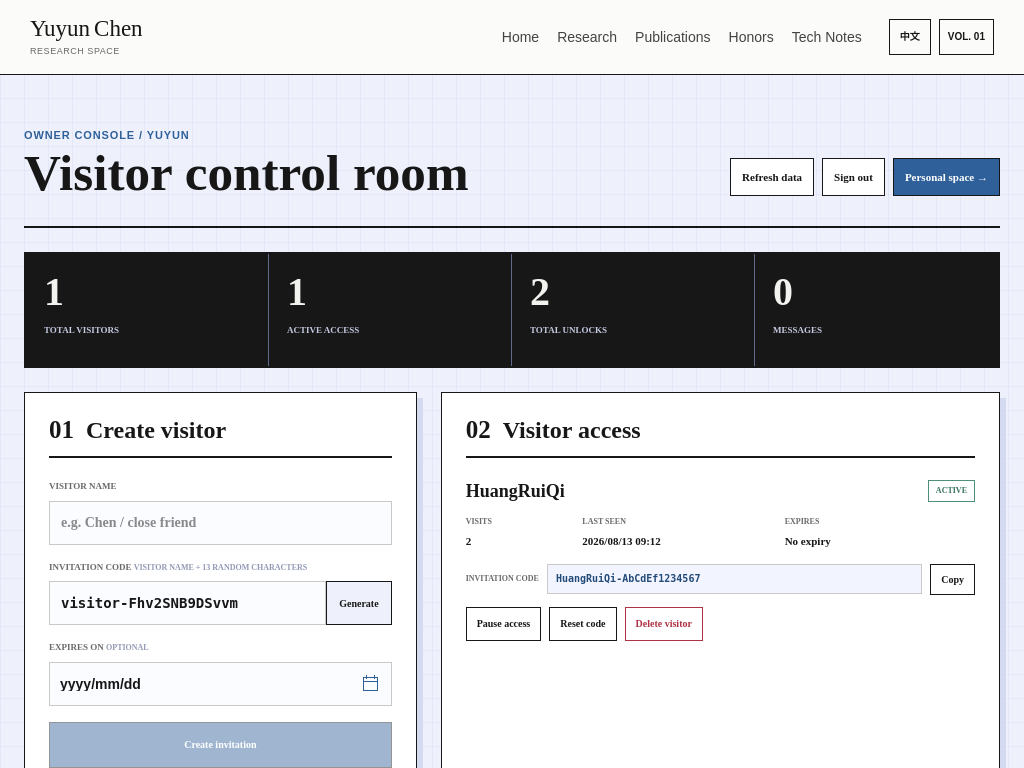
Test: owner session restoration › shows the visible invitation code and lets the owner delete or reset a visitor
Expected: the text "HuangRuiQi-AbCdEf1234567" is shown, [547, 564, 922, 594]
Click the button with aria-label "Open Expires on calendar" at (100, 684), box [49, 662, 392, 706]
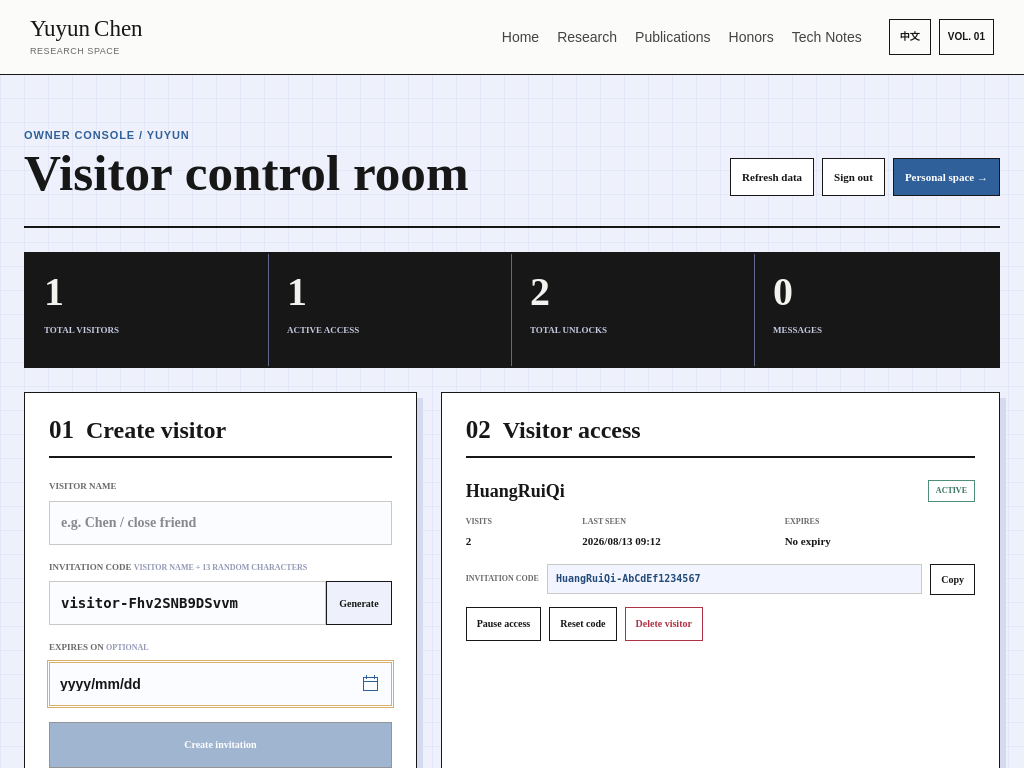
Click the button "Delete visitor" at (664, 624), box [624, 607, 703, 641]
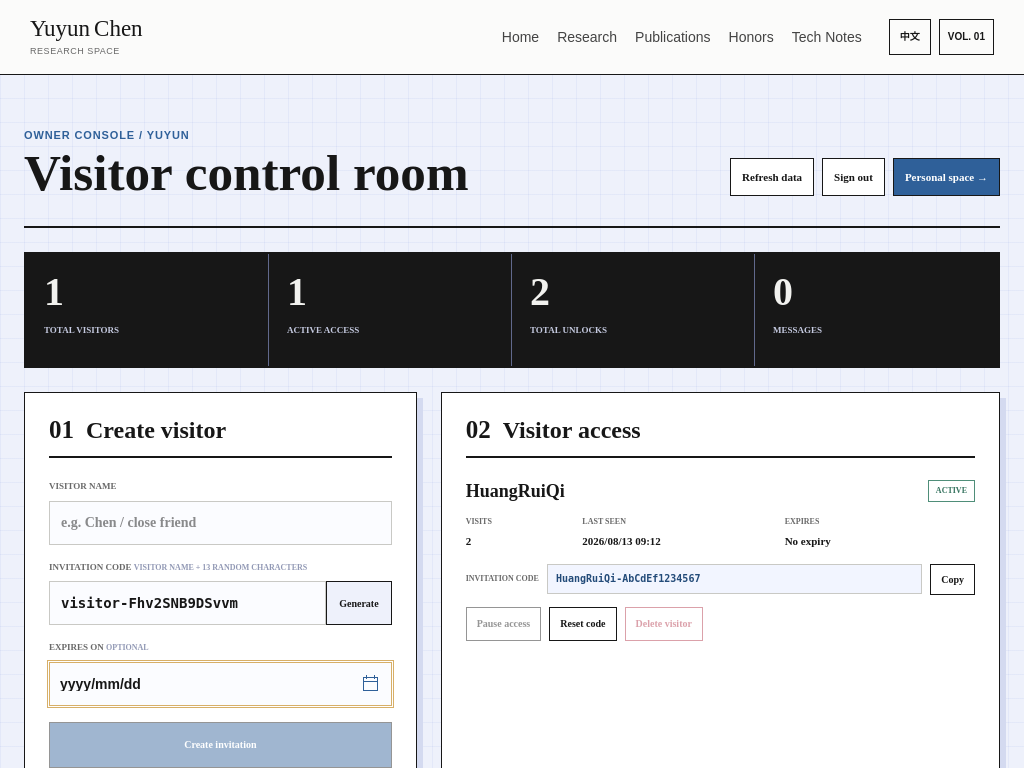
Click the button "Reset code" at (583, 624), box [549, 607, 617, 641]
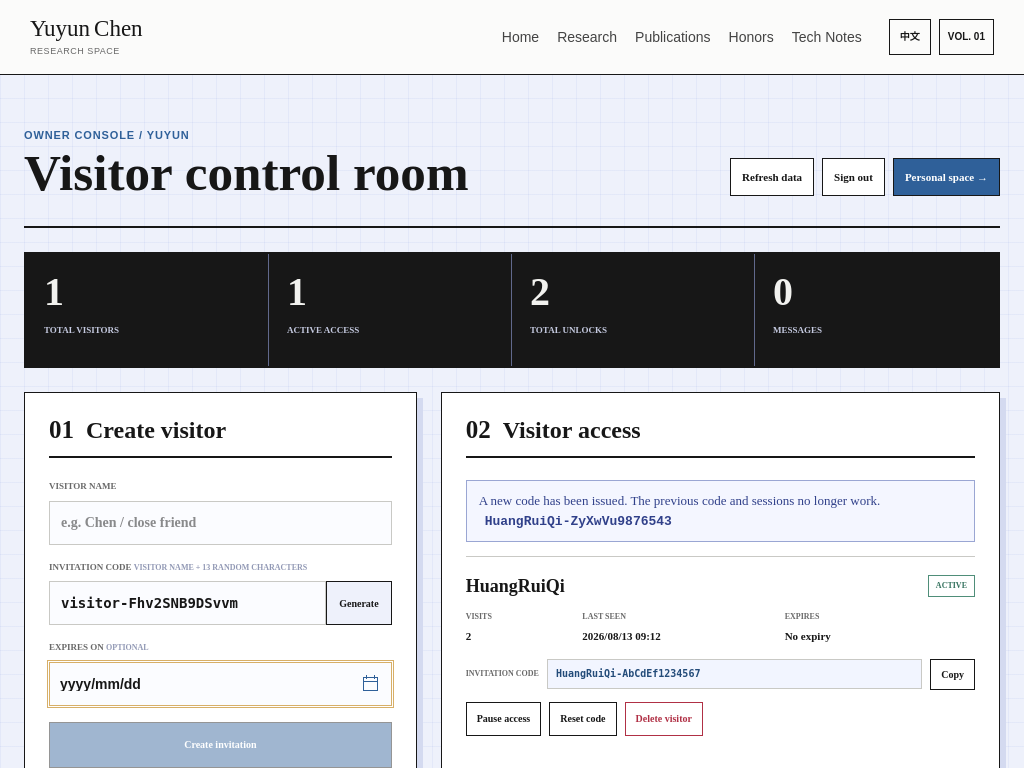
Expected: the text "HuangRuiQi-ZyXwVu9876543" is shown, [485, 514, 672, 529]
